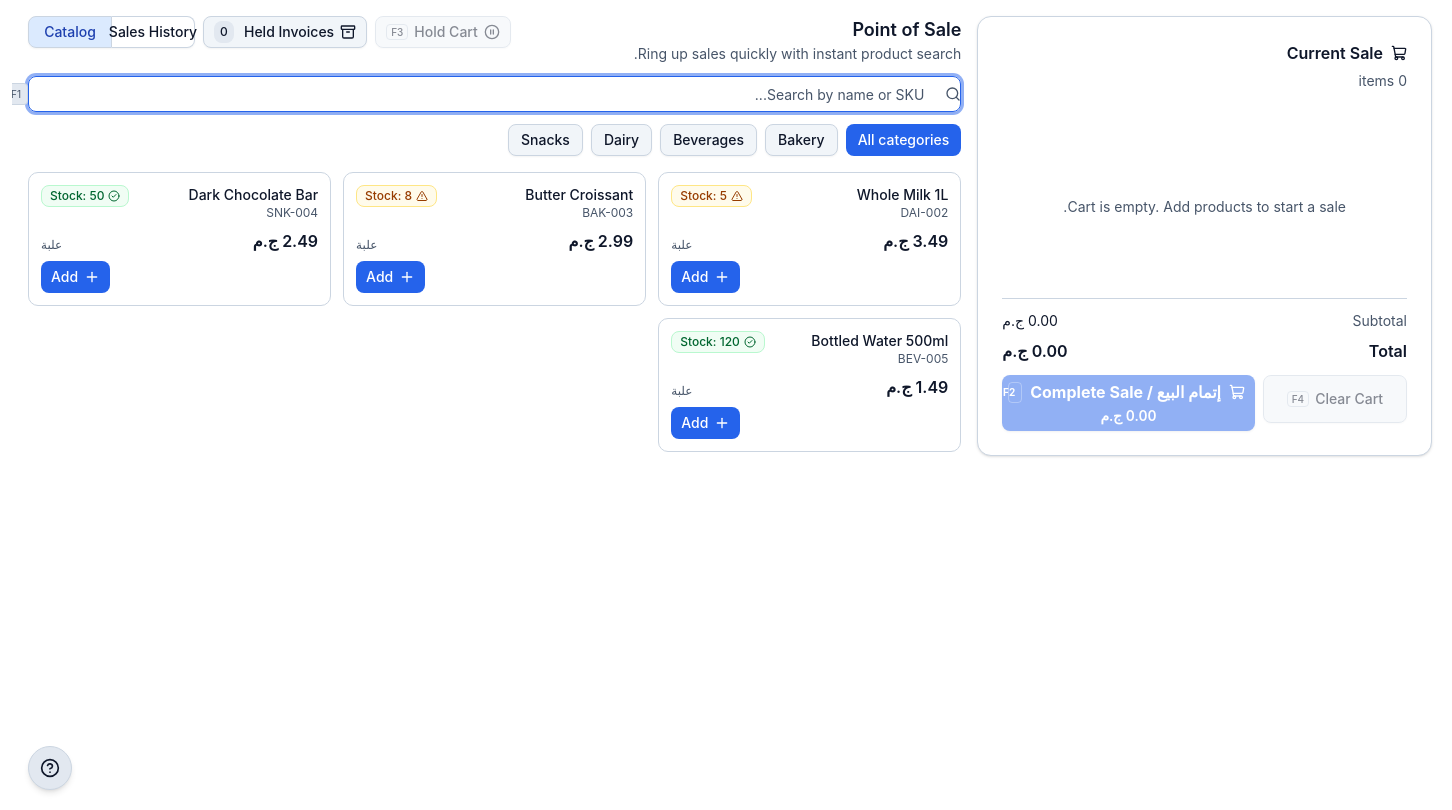
it: POSScreen › prevents increasing quantity beyond available stock
The width and height of the screenshot is (1452, 810).
Step 1. Click the button "Add" below "3.49 ج.م" → click(706, 277), box [671,261,740,293]
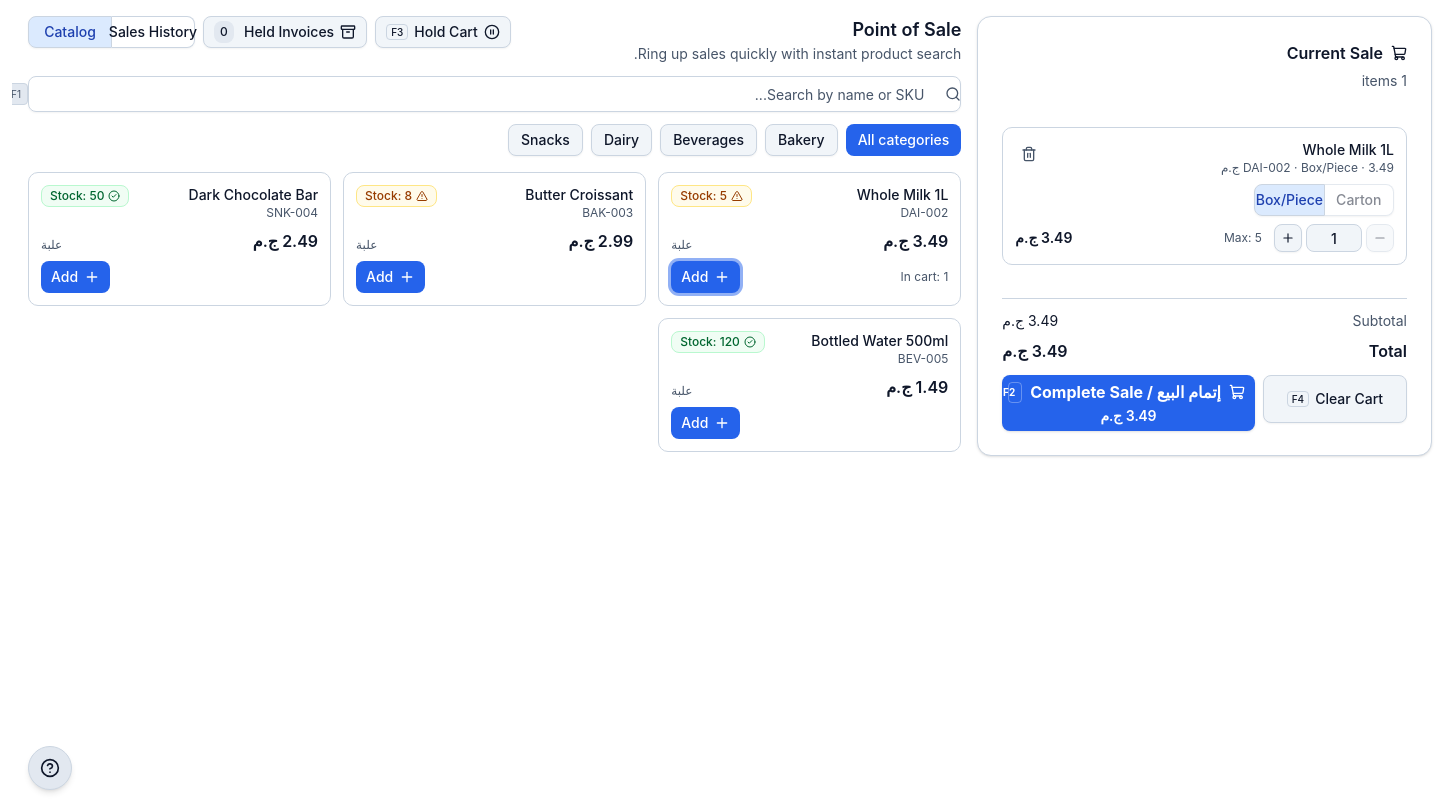
Step 2. Click the button "Add" in the row of "In cart: 1" → click(706, 277), box [671,261,740,293]
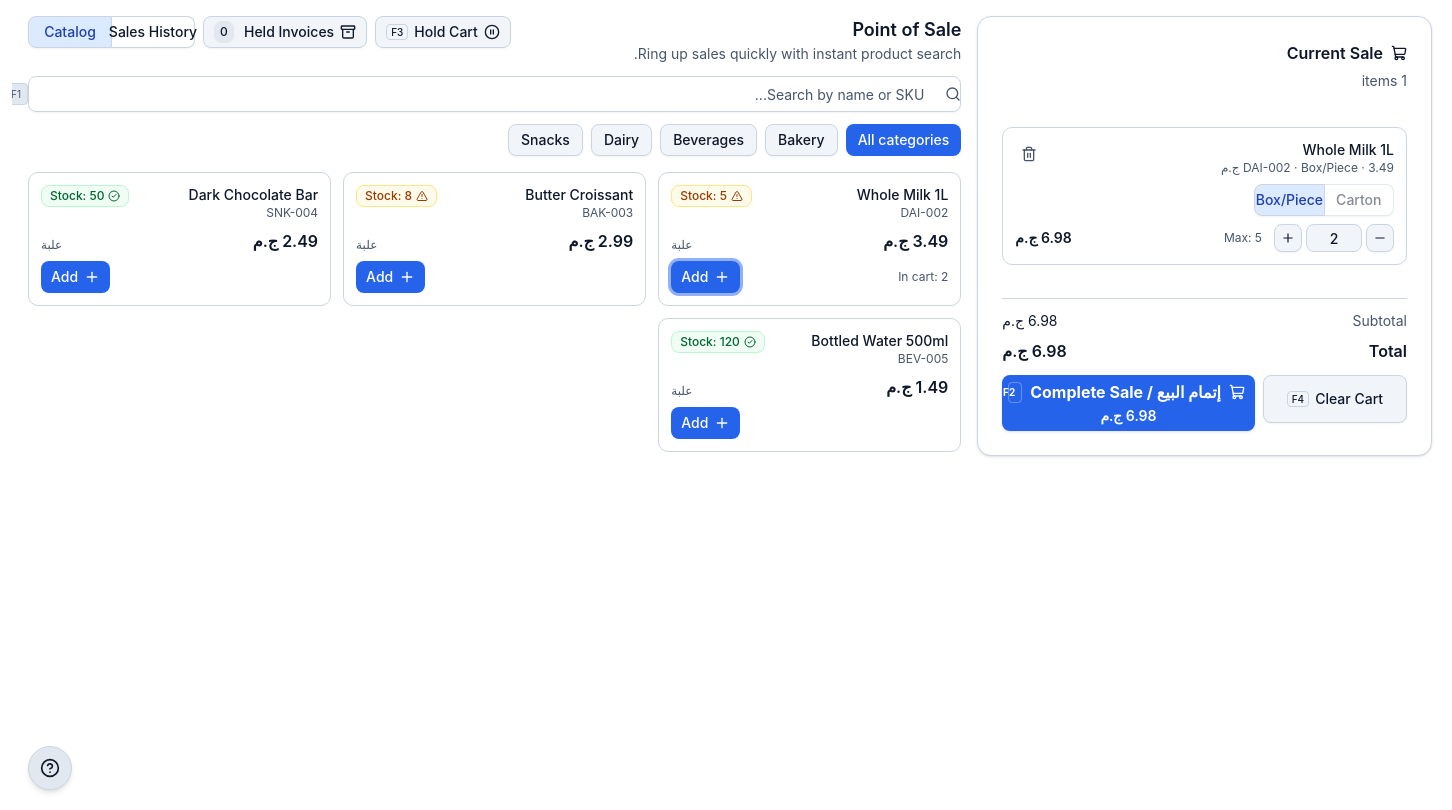
Step 3. Click the button "Add" next to "In cart: 2" → click(706, 277), box [671,261,740,293]
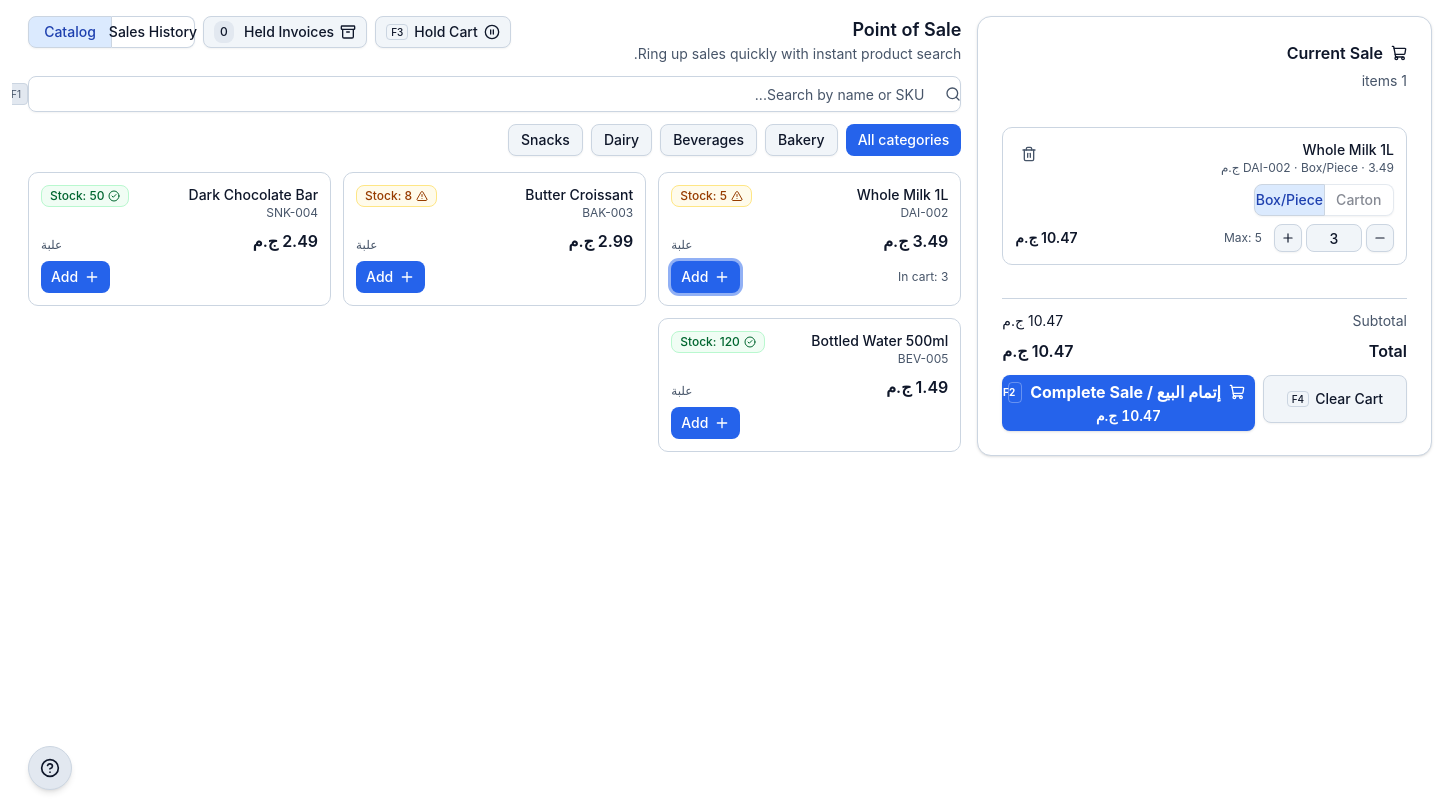
Step 4. Click the button "Add" next to "In cart: 3" → click(706, 277), box [671,261,740,293]
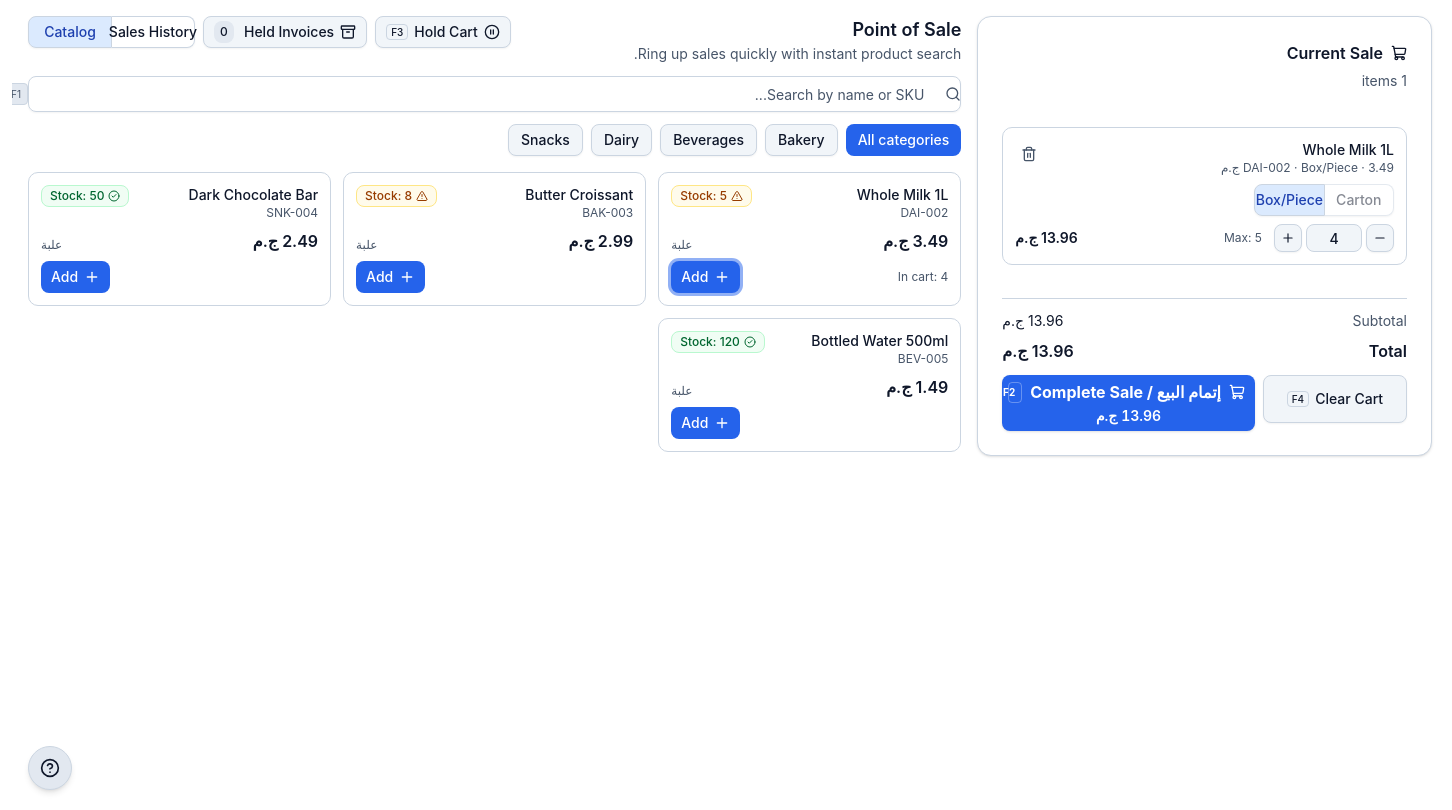
Step 5. Click the button "Add" next to "In cart: 4" → click(706, 277), box [671,261,740,293]
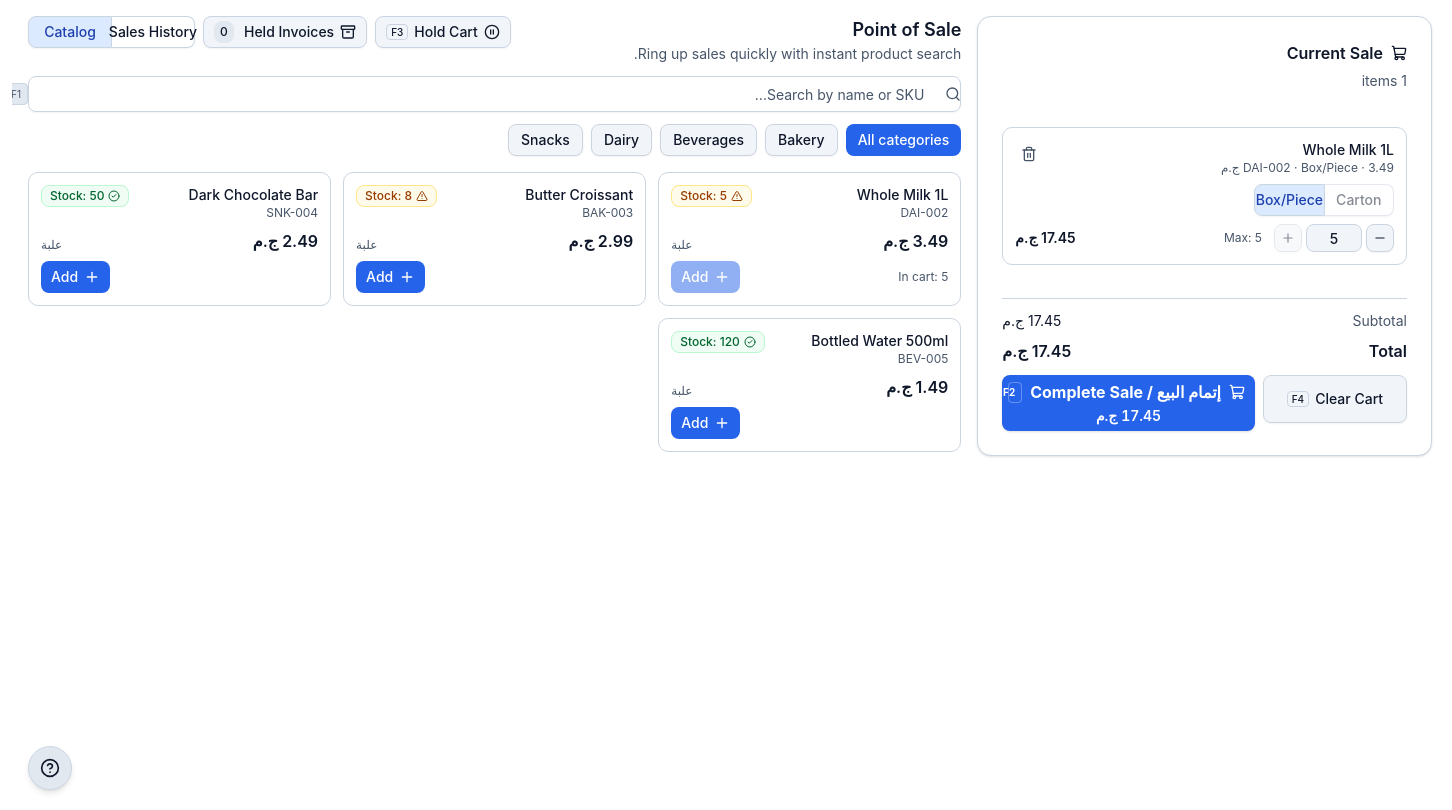
Expected: the button "Add" next to "In cart: 5" is disabled, [671,261,740,293]
Expected: the button named "Increase quantity" is disabled, [1274,224,1302,252]
